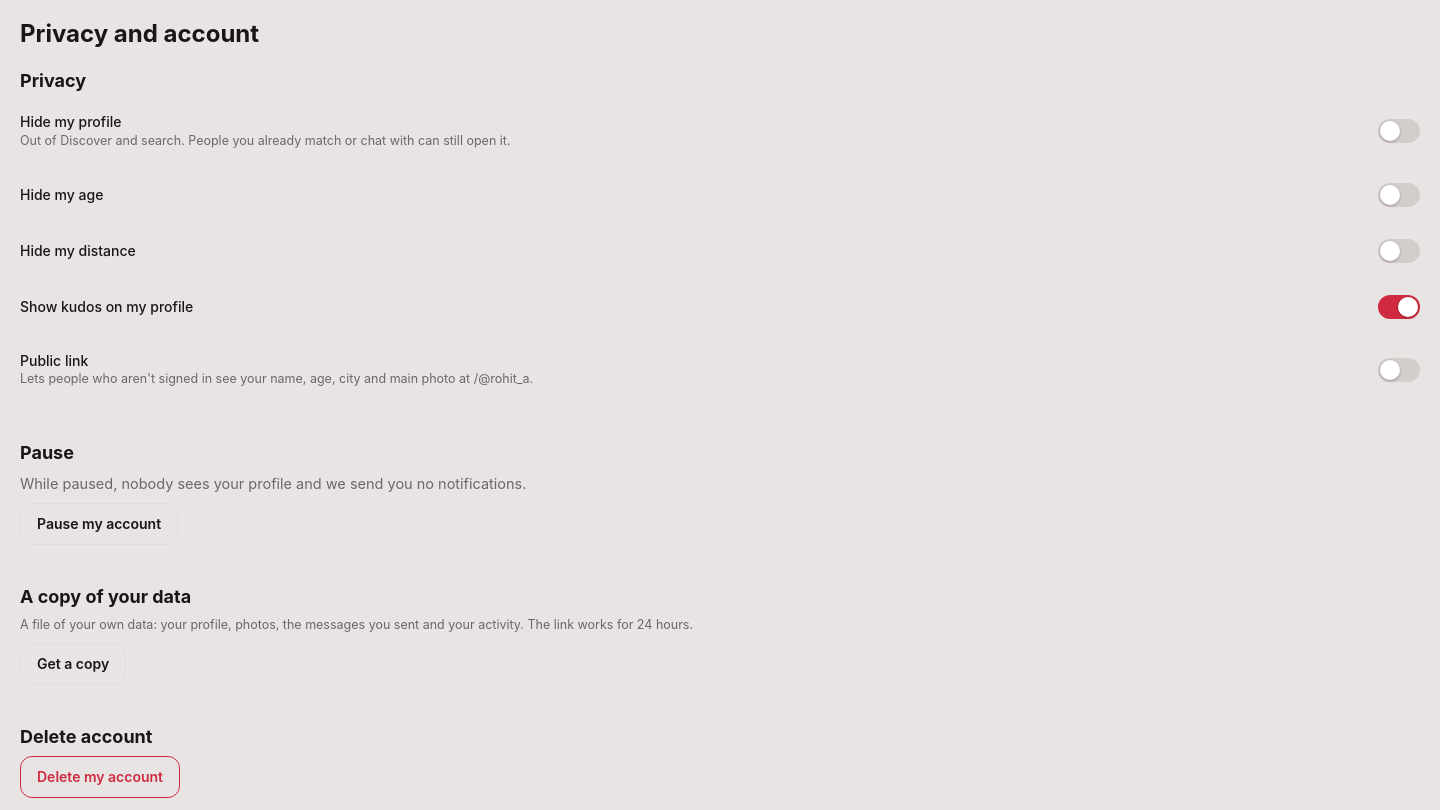
it: privacy switches (T-9.6's PATCH /me/settings) › says when a switch couldn't change, and leaves it
Click the switch labelled "Hide my age" at (62, 194), box [20,170,1420,218]
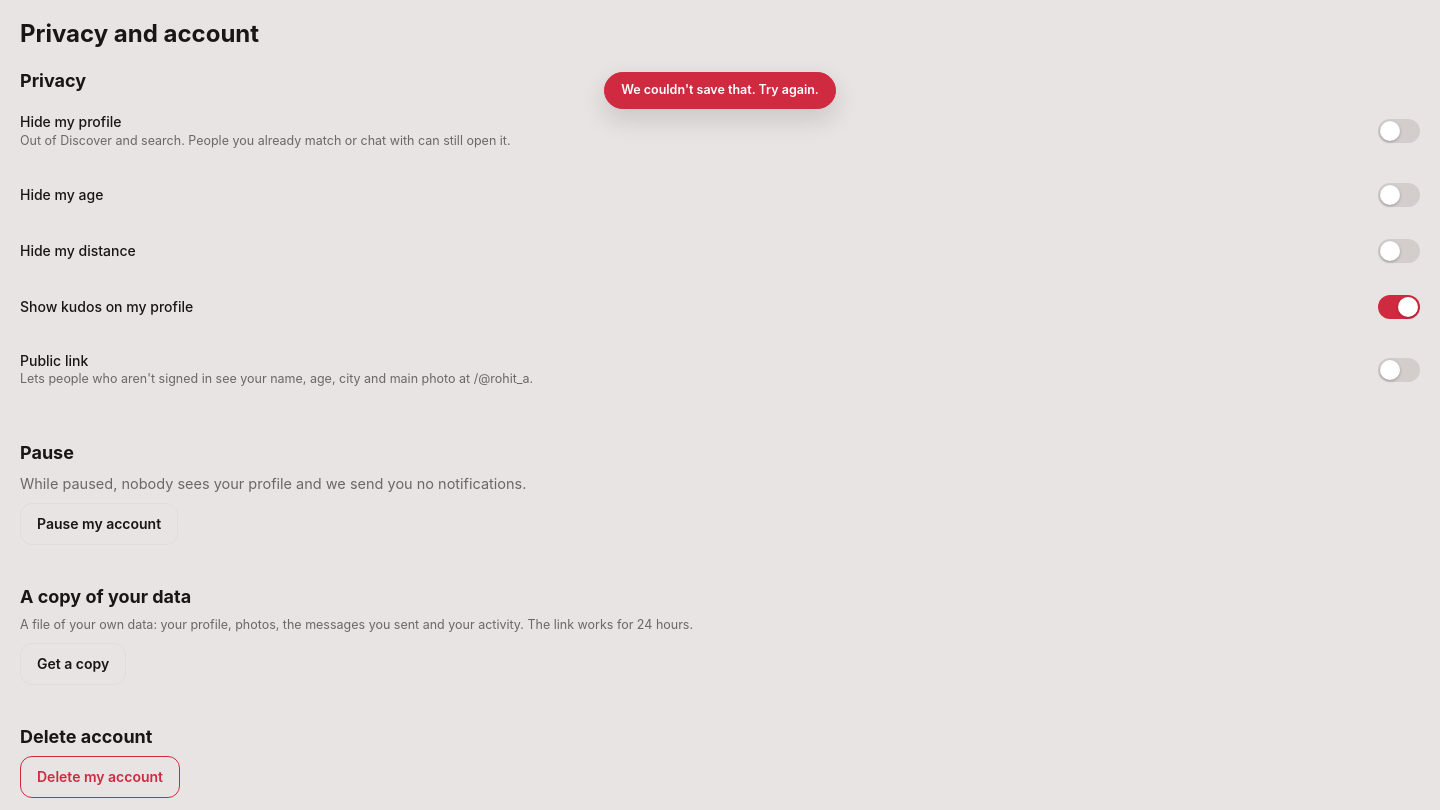
expect the text "We couldn't save that. Try again." is shown: met, box [621,81,819,100]
